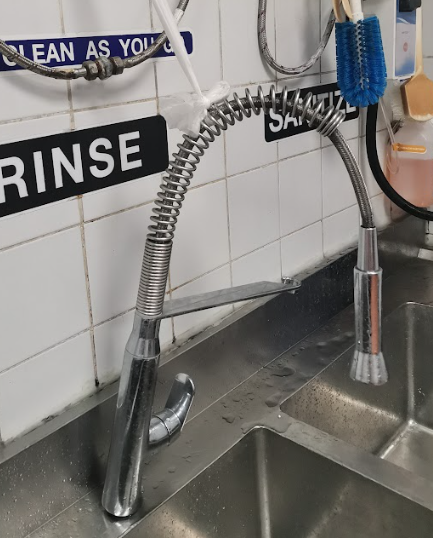Deck Faucet: (89, 78, 413, 525)
